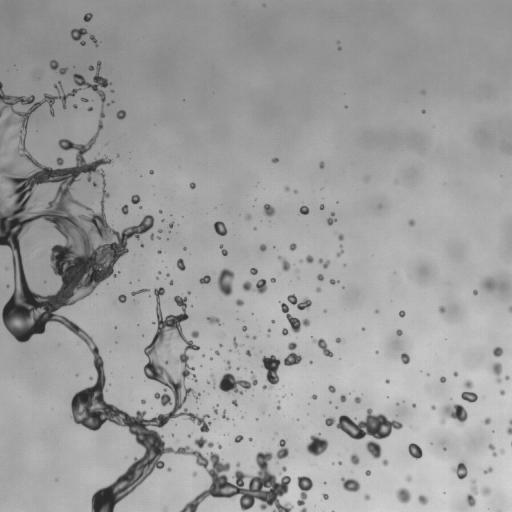droplet: (430, 397, 467, 426), (218, 370, 258, 395), (215, 268, 234, 297), (306, 432, 328, 456), (242, 278, 267, 293), (461, 379, 477, 402), (487, 362, 503, 384), (451, 460, 467, 479), (340, 477, 360, 492), (479, 277, 497, 293), (396, 487, 411, 504), (408, 443, 423, 459), (213, 221, 227, 236), (263, 203, 275, 216), (326, 212, 337, 225), (299, 254, 313, 263), (298, 204, 309, 215), (492, 346, 503, 357), (63, 79, 74, 90), (105, 106, 116, 117), (83, 152, 94, 163), (24, 164, 35, 175), (4, 181, 15, 192), (4, 197, 15, 208), (125, 236, 136, 247), (145, 239, 156, 250), (294, 247, 305, 258), (285, 251, 296, 262), (329, 257, 340, 268), (220, 258, 231, 269), (310, 262, 321, 273), (96, 279, 107, 290), (230, 279, 241, 290), (160, 293, 171, 304), (55, 305, 66, 316), (288, 305, 299, 316), (395, 317, 406, 328), (196, 321, 207, 332), (286, 330, 297, 341), (275, 349, 286, 360), (276, 364, 287, 375), (152, 381, 163, 392), (102, 392, 113, 403), (183, 399, 194, 410), (417, 400, 428, 411), (353, 412, 364, 423), (189, 422, 200, 433), (328, 424, 339, 435), (161, 435, 172, 446), (268, 442, 279, 453), (134, 445, 145, 456), (199, 445, 210, 456), (359, 448, 370, 459), (318, 449, 329, 460), (483, 454, 494, 465), (266, 462, 277, 473), (248, 465, 259, 476), (352, 470, 363, 481), (201, 476, 212, 487), (287, 481, 298, 492), (134, 483, 145, 494), (318, 258, 330, 268), (198, 274, 210, 284), (400, 352, 410, 364), (350, 453, 360, 465), (176, 258, 185, 271), (418, 494, 428, 505), (334, 231, 344, 241), (131, 194, 140, 205), (0, 243, 9, 254), (116, 110, 126, 119), (221, 409, 229, 420), (235, 298, 244, 307), (76, 19, 85, 28), (84, 73, 93, 82), (2, 107, 11, 116), (320, 209, 329, 218), (152, 239, 161, 248), (322, 269, 331, 278), (485, 269, 494, 278), (210, 272, 219, 281), (491, 272, 500, 281), (249, 275, 258, 284), (158, 278, 167, 287), (488, 288, 497, 297), (172, 306, 181, 315), (44, 320, 53, 329), (272, 324, 281, 333), (30, 332, 39, 341), (223, 338, 232, 347), (243, 339, 252, 348), (101, 364, 110, 373), (232, 371, 241, 380), (457, 373, 466, 382), (183, 377, 192, 386), (499, 380, 508, 389), (191, 382, 200, 391), (162, 404, 171, 413), (431, 409, 440, 418), (447, 416, 456, 425), (102, 420, 111, 429), (155, 426, 164, 435), (193, 429, 202, 438), (363, 433, 372, 442), (159, 452, 168, 461), (342, 457, 351, 466), (117, 465, 126, 474), (226, 474, 235, 483), (101, 478, 110, 487), (404, 482, 413, 491), (355, 488, 364, 497), (185, 493, 194, 502), (409, 493, 418, 502), (277, 494, 286, 503), (390, 495, 399, 504), (503, 144, 511, 154), (483, 466, 493, 474), (121, 204, 128, 215), (83, 13, 92, 21), (190, 330, 199, 338), (482, 417, 491, 425), (505, 380, 511, 391), (82, 505, 93, 511), (111, 505, 122, 511), (248, 505, 259, 511), (290, 505, 301, 511), (417, 505, 428, 511), (463, 505, 474, 511), (289, 243, 297, 251), (316, 273, 324, 281), (118, 294, 126, 302), (234, 435, 243, 442), (329, 278, 339, 284), (56, 157, 63, 165), (259, 243, 266, 251), (250, 267, 257, 275), (438, 305, 445, 313), (328, 385, 335, 393), (231, 399, 238, 407), (405, 474, 412, 482), (363, 493, 370, 501), (0, 298, 5, 309), (244, 213, 251, 220), (408, 219, 415, 226), (398, 310, 405, 317), (354, 396, 361, 403), (322, 493, 329, 500), (80, 33, 87, 40), (85, 38, 92, 45), (56, 73, 63, 80), (63, 86, 70, 93), (102, 86, 109, 93), (50, 89, 57, 96), (23, 91, 30, 98), (102, 106, 109, 113), (12, 137, 19, 144), (127, 202, 134, 209), (261, 213, 268, 220), (104, 216, 111, 223), (248, 219, 255, 226), (161, 222, 168, 229), (116, 256, 123, 263), (275, 261, 282, 268), (112, 263, 119, 270), (225, 263, 232, 270), (288, 264, 295, 271), (318, 267, 325, 274), (106, 274, 113, 281), (322, 276, 329, 283), (314, 279, 321, 286), (249, 280, 256, 287), (162, 282, 169, 289), (477, 288, 484, 295), (125, 293, 132, 300), (184, 307, 191, 314), (73, 318, 80, 325), (179, 319, 186, 326), (284, 322, 291, 329), (150, 326, 157, 333), (67, 330, 74, 337), (184, 332, 191, 339), (8, 334, 15, 341), (191, 337, 198, 344), (21, 340, 28, 347), (239, 346, 246, 353), (292, 347, 299, 354), (186, 348, 193, 355), (97, 349, 104, 356), (225, 352, 232, 359), (87, 353, 94, 360), (492, 355, 499, 362), (395, 356, 402, 363), (230, 360, 237, 367), (260, 367, 267, 374), (91, 371, 98, 378), (498, 371, 505, 378), (489, 372, 496, 379), (445, 373, 452, 380), (215, 374, 222, 381), (469, 375, 476, 382), (88, 379, 95, 386), (254, 383, 261, 390), (215, 387, 222, 394), (333, 391, 340, 398), (186, 393, 193, 400), (65, 396, 72, 403), (459, 399, 466, 406), (117, 403, 124, 410), (371, 409, 378, 416), (128, 410, 135, 417), (143, 413, 150, 420), (385, 414, 392, 421), (394, 415, 401, 422), (167, 417, 174, 424), (487, 422, 494, 429), (77, 423, 84, 430), (201, 431, 208, 438), (304, 437, 311, 444), (375, 437, 382, 444), (191, 443, 198, 450), (325, 444, 332, 451), (503, 444, 510, 451), (211, 446, 218, 453), (379, 447, 386, 454), (250, 450, 257, 457), (306, 451, 313, 458), (177, 452, 184, 459), (189, 454, 196, 461), (375, 456, 382, 463), (279, 457, 286, 464), (126, 458, 133, 465), (344, 472, 351, 479), (274, 476, 281, 483), (475, 482, 482, 489), (195, 487, 202, 494), (344, 489, 351, 496), (421, 489, 428, 496), (487, 492, 494, 499), (206, 494, 213, 501), (253, 498, 260, 505), (461, 498, 468, 505), (399, 501, 406, 508), (271, 157, 279, 163), (245, 349, 251, 357), (340, 394, 346, 402), (506, 446, 511, 455), (194, 506, 203, 511), (189, 182, 195, 189), (168, 221, 174, 228), (396, 329, 402, 336), (335, 337, 342, 343), (440, 376, 446, 383), (310, 393, 317, 399), (382, 459, 388, 466), (315, 286, 321, 292), (504, 374, 510, 380), (499, 448, 505, 454), (365, 470, 371, 476), (0, 115, 4, 124), (0, 158, 4, 167), (319, 161, 324, 168), (150, 232, 154, 240), (87, 106, 93, 111), (319, 204, 324, 210), (168, 279, 173, 285), (242, 325, 247, 331), (453, 371, 458, 377), (500, 389, 505, 395), (141, 398, 146, 404), (281, 466, 286, 472), (192, 471, 197, 477), (507, 433, 511, 440), (236, 507, 243, 511), (246, 507, 253, 511), (80, 40, 85, 45), (284, 186, 289, 191), (270, 277, 275, 282), (374, 308, 379, 313), (214, 350, 219, 355), (236, 365, 241, 370), (187, 432, 192, 437), (75, 24, 80, 29), (65, 30, 70, 35), (68, 37, 73, 42), (47, 55, 52, 60), (91, 61, 96, 66), (57, 63, 62, 68), (54, 67, 59, 72), (49, 68, 54, 73), (76, 69, 81, 74), (98, 71, 103, 76), (89, 79, 94, 84), (73, 83, 78, 88), (96, 84, 101, 89), (3, 90, 8, 95), (16, 91, 21, 96), (104, 97, 109, 102), (120, 105, 125, 110), (123, 115, 128, 120), (100, 117, 105, 122), (118, 118, 123, 123), (17, 121, 22, 126), (98, 129, 103, 134), (95, 136, 100, 141), (91, 143, 96, 148), (271, 153, 276, 158), (95, 155, 100, 160), (323, 162, 328, 167), (96, 164, 101, 169), (289, 185, 294, 190), (104, 186, 109, 191), (288, 188, 293, 193), (130, 190, 135, 195), (138, 193, 143, 198), (103, 196, 108, 201), (137, 200, 142, 205), (269, 201, 274, 206), (259, 206, 264, 211), (103, 208, 108, 213), (117, 209, 122, 214), (144, 210, 149, 215), (147, 210, 152, 215), (307, 210, 312, 215), (300, 213, 305, 218), (269, 214, 274, 219), (408, 214, 413, 219), (215, 216, 220, 221), (166, 218, 171, 223), (134, 220, 139, 225), (152, 220, 157, 225), (322, 220, 327, 225), (403, 220, 408, 225), (224, 223, 229, 228), (408, 225, 413, 230), (210, 227, 215, 232), (117, 228, 122, 233), (145, 229, 150, 234), (337, 229, 342, 234), (153, 231, 158, 236), (158, 232, 163, 237), (215, 233, 220, 238), (333, 234, 338, 239), (342, 235, 347, 240), (258, 239, 263, 244), (339, 239, 344, 244), (285, 241, 290, 246), (295, 242, 300, 247), (222, 244, 227, 249), (265, 245, 270, 250), (335, 247, 340, 252), (293, 248, 298, 253), (226, 249, 231, 254), (257, 249, 262, 254), (263, 249, 268, 254), (339, 253, 344, 258), (301, 255, 306, 260), (312, 257, 317, 262), (321, 257, 326, 262), (172, 258, 177, 263), (182, 259, 187, 264), (302, 259, 307, 264), (306, 262, 311, 267), (318, 262, 323, 267), (8, 263, 13, 268), (327, 263, 332, 268), (281, 269, 286, 274), (160, 272, 165, 277), (312, 272, 317, 277), (332, 275, 337, 280), (165, 276, 170, 281), (265, 279, 270, 284), (201, 282, 206, 287), (473, 284, 478, 289), (133, 286, 138, 291), (149, 289, 154, 294), (143, 290, 148, 295), (287, 290, 292, 295), (261, 291, 266, 296), (151, 294, 156, 299), (307, 295, 312, 300), (296, 298, 301, 303), (75, 300, 80, 305), (151, 300, 156, 305), (285, 300, 290, 305), (72, 302, 77, 307), (234, 304, 239, 309), (276, 304, 281, 309), (308, 304, 313, 309), (444, 306, 449, 311), (503, 306, 508, 311), (434, 308, 439, 313), (207, 312, 212, 317), (213, 312, 218, 317), (281, 312, 286, 317), (439, 312, 444, 317), (161, 313, 166, 318), (152, 316, 157, 321), (212, 321, 217, 326), (267, 322, 272, 327), (277, 327, 282, 332), (401, 328, 406, 333), (391, 330, 396, 335), (87, 331, 92, 336), (314, 335, 319, 340), (147, 337, 152, 342), (235, 338, 240, 343), (80, 340, 85, 345), (313, 342, 318, 347), (497, 342, 502, 347), (229, 343, 234, 348), (491, 343, 496, 348), (326, 344, 331, 349), (217, 347, 222, 352), (317, 347, 322, 352), (287, 348, 292, 353), (401, 348, 406, 353), (488, 350, 493, 355), (396, 352, 401, 357), (407, 352, 412, 357), (212, 353, 217, 358), (265, 353, 270, 358), (204, 354, 209, 359), (274, 354, 279, 359), (143, 358, 148, 363), (408, 358, 413, 363), (186, 359, 191, 364), (279, 359, 284, 364), (258, 360, 263, 365), (222, 362, 227, 367), (291, 363, 296, 368), (226, 368, 231, 373), (222, 369, 227, 374), (457, 371, 462, 376), (207, 376, 212, 381), (104, 378, 109, 383), (149, 378, 154, 383), (247, 378, 252, 383), (207, 383, 212, 388), (272, 383, 277, 388), (333, 383, 338, 388), (246, 387, 251, 392), (467, 387, 472, 392), (325, 389, 330, 394), (504, 389, 509, 394), (158, 390, 163, 395), (355, 391, 360, 396), (495, 391, 500, 396), (344, 393, 349, 398), (498, 394, 503, 399), (156, 397, 161, 402), (309, 398, 314, 403), (279, 401, 284, 406), (181, 402, 186, 407), (330, 402, 335, 407), (434, 402, 439, 407), (425, 404, 430, 409), (175, 408, 180, 413), (191, 409, 196, 414), (217, 410, 222, 415), (340, 410, 345, 415), (209, 411, 214, 416), (153, 412, 158, 417), (197, 413, 202, 418), (324, 413, 329, 418), (349, 415, 354, 420), (480, 415, 485, 420), (234, 416, 239, 421), (203, 417, 208, 422), (69, 418, 74, 423), (464, 418, 469, 423), (353, 419, 358, 424), (401, 422, 406, 427), (505, 422, 510, 427), (162, 423, 167, 428), (123, 425, 128, 430), (390, 427, 395, 432), (337, 428, 342, 433), (93, 429, 98, 434), (502, 430, 507, 435), (232, 432, 237, 437), (343, 432, 348, 437), (160, 436, 165, 441), (351, 437, 356, 442), (274, 438, 279, 443), (180, 442, 185, 447), (202, 442, 207, 447), (417, 442, 422, 447), (163, 443, 168, 448), (483, 443, 488, 448), (172, 445, 177, 450), (403, 446, 408, 451), (420, 447, 425, 452), (494, 447, 499, 452), (261, 448, 266, 453), (487, 448, 492, 453), (287, 450, 292, 455), (404, 450, 409, 455), (496, 452, 501, 457), (407, 454, 412, 459), (410, 456, 415, 461), (387, 460, 392, 465), (452, 462, 457, 467), (464, 462, 469, 467), (162, 464, 167, 469), (482, 464, 487, 469), (491, 464, 496, 469), (198, 465, 203, 470), (153, 466, 158, 471), (187, 471, 192, 476), (281, 471, 286, 476), (486, 471, 491, 476), (298, 472, 303, 477), (304, 472, 309, 477), (401, 473, 406, 478), (452, 473, 457, 478), (145, 475, 150, 480), (309, 475, 314, 480), (411, 476, 416, 481), (462, 476, 467, 481), (338, 480, 343, 485), (489, 485, 494, 490), (349, 490, 354, 495), (126, 493, 131, 498), (236, 493, 241, 498), (472, 494, 477, 499), (220, 496, 225, 501), (303, 498, 308, 503), (363, 499, 368, 504), (292, 501, 297, 506), (179, 503, 184, 508), (298, 504, 303, 509), (157, 229, 163, 233), (473, 289, 477, 295), (0, 306, 3, 313), (420, 90, 425, 94), (72, 104, 77, 108), (149, 170, 154, 174), (157, 249, 161, 254), (295, 268, 299, 273), (270, 319, 275, 323), (361, 326, 365, 331), (245, 333, 249, 338), (374, 350, 379, 354), (261, 408, 265, 413), (166, 467, 171, 471), (508, 306, 511, 312), (337, 46, 341, 50), (421, 109, 425, 113), (293, 189, 297, 193), (378, 204, 382, 208), (158, 209, 162, 213), (253, 226, 257, 230), (187, 291, 191, 295), (323, 309, 327, 313), (252, 335, 256, 339), (219, 343, 223, 347), (309, 360, 313, 364), (89, 376, 93, 380), (385, 379, 389, 383), (248, 437, 252, 441), (338, 461, 342, 465), (163, 507, 167, 511), (140, 242, 143, 247), (508, 373, 511, 378), (508, 376, 511, 381), (305, 508, 310, 511), (262, 3, 265, 7), (110, 89, 114, 92), (344, 105, 348, 108), (116, 153, 119, 157), (138, 206, 142, 209), (161, 218, 164, 222), (156, 236, 160, 239), (183, 246, 186, 250), (158, 270, 161, 274), (296, 275, 299, 279), (156, 276, 159, 280), (114, 325, 117, 329), (228, 348, 232, 351), (202, 353, 205, 357), (209, 357, 213, 360), (75, 373, 78, 377), (412, 403, 415, 407), (334, 406, 338, 409), (240, 415, 243, 419), (274, 432, 278, 435), (443, 447, 446, 451), (0, 127, 2, 132), (0, 172, 2, 177), (336, 40, 339, 43), (168, 230, 171, 233), (343, 264, 346, 267), (43, 280, 46, 283), (6, 284, 9, 287), (190, 304, 193, 307), (251, 312, 254, 315), (259, 350, 262, 353), (426, 373, 429, 376), (329, 401, 332, 404), (396, 402, 399, 405), (255, 418, 258, 421), (296, 418, 299, 421), (171, 433, 174, 436), (430, 442, 433, 445), (331, 462, 334, 465), (54, 478, 57, 481), (323, 481, 326, 484), (89, 10, 92, 13), (81, 14, 84, 17), (89, 18, 92, 21), (94, 36, 97, 39), (96, 40, 99, 43), (92, 42, 95, 45), (337, 43, 340, 46), (95, 46, 98, 49), (341, 46, 344, 49), (338, 49, 341, 52), (99, 63, 102, 66), (60, 81, 63, 84), (56, 83, 59, 86), (64, 91, 67, 94), (109, 102, 112, 105), (345, 102, 348, 105), (343, 107, 346, 110), (424, 108, 427, 111), (418, 109, 421, 112), (103, 111, 106, 114), (420, 112, 423, 115), (16, 136, 19, 139), (19, 144, 22, 147), (119, 154, 122, 157), (16, 155, 19, 158), (268, 158, 271, 161), (275, 161, 278, 164), (316, 164, 319, 167), (149, 166, 152, 169), (146, 169, 149, 172), (153, 170, 156, 173), (148, 173, 151, 176), (103, 175, 106, 178), (191, 179, 194, 182), (104, 180, 107, 183), (194, 183, 197, 186), (281, 186, 284, 189), (188, 187, 191, 190), (193, 187, 196, 190), (108, 192, 111, 195), (335, 197, 338, 200), (320, 200, 323, 203), (332, 200, 335, 203), (338, 200, 341, 203), (102, 201, 105, 204), (252, 201, 255, 204), (261, 202, 264, 205), (120, 203, 123, 206), (323, 203, 326, 206), (335, 203, 338, 206), (297, 205, 300, 208), (316, 206, 319, 209), (161, 209, 164, 212), (319, 209, 322, 212), (331, 209, 334, 212), (167, 211, 170, 214), (181, 212, 184, 215), (331, 215, 334, 218), (223, 221, 226, 224), (332, 221, 335, 224), (172, 223, 175, 226), (255, 224, 258, 227), (167, 227, 170, 230), (252, 229, 255, 232), (152, 235, 155, 238), (292, 240, 295, 243), (183, 243, 186, 246), (143, 244, 146, 247), (216, 244, 219, 247), (180, 245, 183, 248), (139, 246, 142, 249), (273, 247, 276, 250), (160, 248, 163, 251), (218, 248, 221, 251), (160, 251, 163, 254), (220, 254, 223, 257), (223, 255, 226, 258), (274, 255, 277, 258), (253, 265, 256, 268), (176, 267, 179, 270), (156, 273, 159, 276), (200, 274, 203, 277), (273, 275, 276, 278), (275, 278, 278, 281), (126, 279, 129, 282), (172, 280, 175, 283), (196, 280, 199, 283), (329, 283, 332, 286), (160, 284, 163, 287), (142, 285, 145, 288), (138, 286, 141, 289), (312, 287, 315, 290), (188, 288, 191, 291), (340, 288, 343, 291), (469, 290, 472, 293), (120, 291, 123, 294), (317, 291, 320, 294), (117, 292, 120, 295), (134, 293, 137, 296), (294, 293, 297, 296), (85, 295, 88, 298), (131, 295, 134, 298), (116, 299, 119, 302), (122, 301, 125, 304), (173, 301, 176, 304), (376, 306, 379, 309), (372, 307, 375, 310), (326, 308, 329, 311), (396, 309, 399, 312), (320, 310, 323, 313), (375, 312, 378, 315), (251, 314, 254, 317), (396, 314, 399, 317), (403, 314, 406, 317), (271, 316, 274, 319), (205, 319, 208, 322), (136, 320, 139, 323), (218, 320, 221, 323), (268, 320, 271, 323), (242, 322, 245, 325), (133, 323, 136, 326), (111, 324, 114, 327), (116, 325, 119, 328), (136, 325, 139, 328), (246, 325, 249, 328), (364, 326, 367, 329), (398, 326, 401, 329), (264, 327, 267, 330), (358, 327, 361, 330), (239, 328, 242, 331), (270, 328, 273, 331), (245, 329, 248, 332), (361, 330, 364, 333), (139, 331, 142, 334), (268, 331, 271, 334), (249, 334, 252, 337), (335, 334, 338, 337), (399, 334, 402, 337), (255, 336, 258, 339), (339, 336, 342, 339), (308, 337, 311, 340), (92, 338, 95, 341), (230, 339, 233, 342), (219, 340, 222, 343), (236, 345, 239, 348), (375, 347, 378, 350), (249, 350, 252, 353), (372, 352, 375, 355), (377, 352, 380, 355), (245, 354, 248, 357), (326, 355, 329, 358), (227, 357, 230, 360), (309, 357, 312, 360), (338, 359, 341, 362), (311, 362, 314, 365), (239, 367, 242, 370), (426, 369, 429, 372), (429, 372, 432, 375), (423, 373, 426, 376), (442, 373, 445, 376), (195, 375, 198, 378), (437, 375, 440, 378), (455, 375, 458, 378), (386, 376, 389, 379), (382, 379, 385, 382), (437, 379, 440, 382), (209, 380, 212, 383), (330, 382, 333, 385), (385, 382, 388, 385), (205, 383, 208, 386), (325, 384, 328, 387), (185, 385, 188, 388), (264, 387, 267, 390), (348, 388, 351, 391), (199, 390, 202, 393), (313, 391, 316, 394), (281, 392, 284, 395), (287, 392, 290, 395), (292, 392, 295, 395), (309, 392, 312, 395), (385, 392, 388, 395), (151, 394, 154, 397), (197, 395, 200, 398), (284, 395, 287, 398), (383, 395, 386, 398), (388, 395, 391, 398), (140, 396, 143, 399), (278, 396, 281, 399), (316, 396, 319, 399), (196, 398, 199, 401), (137, 399, 140, 402), (235, 400, 238, 403), (325, 400, 328, 403), (398, 400, 401, 403), (412, 400, 415, 403), (392, 401, 395, 404), (471, 401, 474, 404), (275, 402, 278, 405), (355, 402, 358, 405), (231, 403, 234, 406), (415, 403, 418, 406), (273, 405, 276, 408), (366, 405, 369, 408), (395, 405, 398, 408), (409, 405, 412, 408), (186, 409, 189, 412), (276, 409, 279, 412), (265, 411, 268, 414), (224, 413, 227, 416), (238, 413, 241, 416), (243, 413, 246, 416), (255, 414, 258, 417), (293, 416, 296, 419), (298, 416, 301, 419), (222, 417, 225, 420), (252, 417, 255, 420), (228, 418, 231, 421), (257, 419, 260, 422), (298, 419, 301, 422), (295, 420, 298, 423), (322, 420, 325, 423), (324, 424, 327, 427), (494, 429, 497, 432), (224, 431, 227, 434), (240, 432, 243, 435), (491, 432, 494, 435), (173, 433, 176, 436), (248, 434, 251, 437), (282, 436, 285, 439), (231, 437, 234, 440), (251, 438, 254, 441), (240, 439, 243, 442), (507, 442, 510, 445), (220, 443, 223, 446), (441, 444, 444, 447), (445, 445, 448, 448), (440, 448, 443, 451), (445, 449, 448, 452), (339, 458, 342, 461), (334, 461, 337, 464), (328, 462, 331, 465), (339, 464, 342, 467), (367, 467, 370, 470), (170, 468, 173, 471), (363, 468, 366, 471), (480, 470, 483, 473), (167, 471, 170, 474), (370, 471, 373, 474), (362, 472, 365, 475), (325, 479, 328, 482), (324, 483, 327, 486), (441, 488, 444, 491), (323, 490, 326, 493), (445, 490, 448, 493), (327, 493, 330, 496), (441, 493, 444, 496), (320, 495, 323, 498), (369, 495, 372, 498), (329, 507, 332, 510), (332, 507, 335, 510), (182, 99, 185, 101), (166, 238, 169, 240), (273, 245, 275, 248), (5, 267, 7, 270), (129, 281, 131, 284), (342, 286, 344, 289), (133, 299, 135, 302), (109, 383, 111, 386), (348, 392, 350, 395), (402, 400, 405, 402), (233, 423, 235, 426), (487, 509, 490, 511), (140, 175, 142, 177), (254, 198, 256, 200), (336, 201, 338, 203), (252, 205, 254, 207), (214, 207, 216, 209), (170, 214, 172, 216), (141, 334, 143, 336), (115, 341, 117, 343), (200, 365, 202, 367), (244, 367, 246, 369), (420, 370, 422, 372), (282, 385, 284, 387), (290, 393, 292, 395), (361, 393, 363, 395), (386, 396, 388, 398), (213, 418, 215, 420), (492, 430, 494, 432), (443, 492, 445, 494), (165, 266, 167, 267), (149, 295, 150, 297), (137, 324, 139, 325), (445, 338, 446, 340), (339, 358, 341, 359), (203, 390, 204, 392), (252, 394, 253, 396), (98, 153, 99, 154), (307, 414, 308, 415), (272, 438, 273, 439)
ligament: (261, 342, 302, 390), (296, 476, 313, 511), (70, 28, 98, 47), (310, 336, 333, 357), (287, 293, 311, 310), (49, 59, 68, 74), (277, 255, 290, 271), (206, 316, 221, 325), (131, 288, 150, 295), (488, 443, 497, 457), (336, 244, 344, 257), (505, 418, 511, 435), (219, 244, 227, 255), (37, 249, 47, 257), (212, 403, 218, 415), (276, 399, 281, 410), (106, 100, 114, 106), (266, 328, 271, 337), (216, 442, 222, 449), (80, 97, 88, 102), (165, 272, 169, 279), (282, 393, 286, 398), (496, 509, 501, 511), (231, 418, 234, 420), (237, 318, 239, 320), (510, 442, 511, 446), (296, 336, 297, 339), (331, 510, 334, 511)
